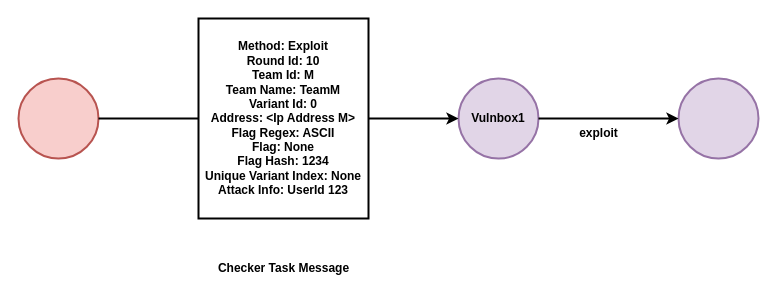
Some shapes in this 776 by 300 pixel diagram are drawn without their labels. The shapes that lost their labels are listed below. From the top down, each one's centre as x and y in pixels, then its label:
the point at 58,118: Orchestrator
the point at 718,118: VulnboxM
